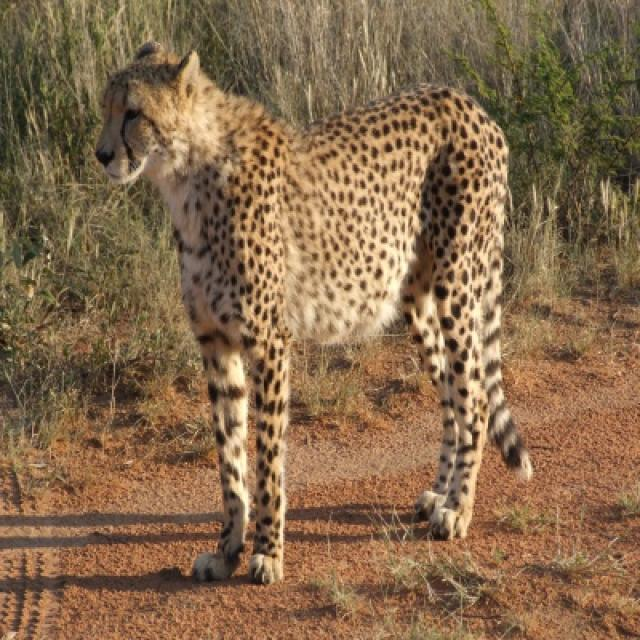Cheetah: (94, 42, 530, 582)
